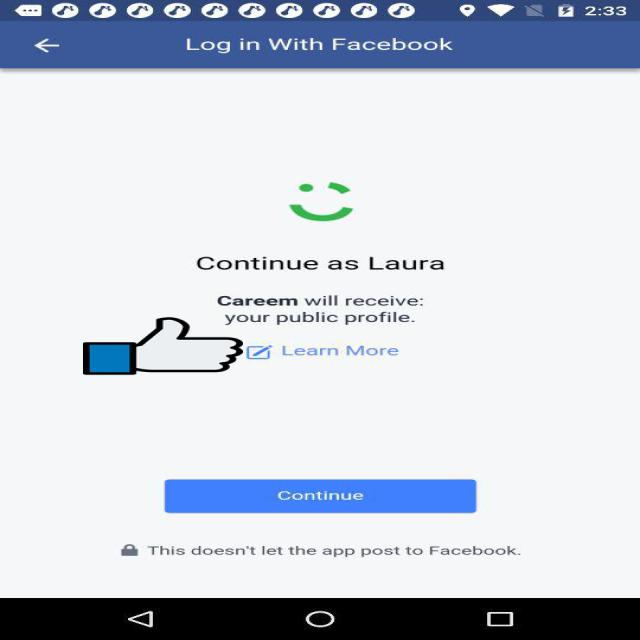privacy zuckering: (83, 316, 243, 376)
